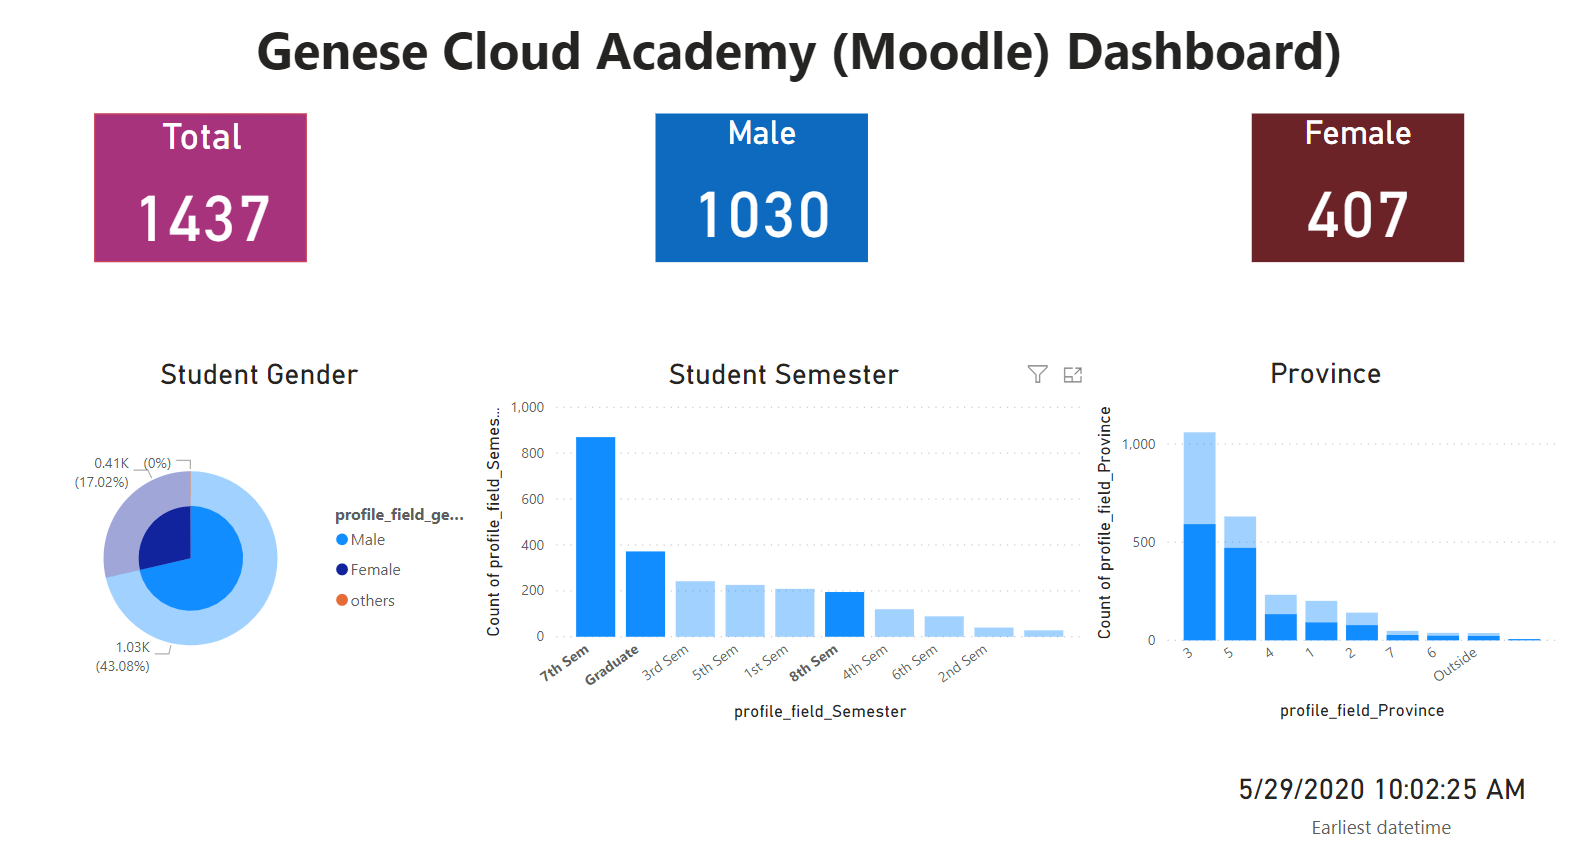

Layout of this report page (visuals, bound fields, positions):
{"tool":"powerbi","page":{"name":"Dashboard","canvas":[1280,720],"ordinal":0},"visuals":[{"type":"pieChart","title":"Student Gender","fields":{"Category":["user_latest.profile_field_gender1"],"Series":["user_latest.profile_field_gender1"],"Y":["CountNonNull(user_latest.profile_field_gender)"]},"box":[2.1,303.2,367.2,310.5],"z":0},{"type":"columnChart","title":"Student Semester","fields":{"Category":["user_latest.profile_field_Semester1"],"Y":["CountNonNull(user_latest.profile_field_Semester)1"]},"box":[369.4,303.2,513.4,310.5],"z":1000},{"type":"columnChart","title":"Province","fields":{"Category":["user_latest.profile_field_Province1"],"Y":["CountNonNull(user_latest.profile_field_Province)1"]},"box":[882.3,302.7,397.4,310.5],"z":2000},{"type":"card","title":"Total","fields":{"Values":["CountNonNull(user_latest.id)"]},"box":[47.1,98.8,178.8,124.4],"z":3000},{"type":"card","title":"Male","fields":{"Values":["CountNonNull(user_latest.profile_field_gender)"]},"box":[518.2,98.8,178.8,124.4],"z":4000},{"type":"card","title":"Female","fields":{"Values":["CountNonNull(user_latest.profile_field_gender)"]},"box":[1019.5,98.8,178.8,124.4],"z":5000},{"type":"textbox","box":[0,10.9,1279.3,72.5],"z":6000},{"type":"card","fields":{"Values":["Min(Kathmandu.datetime)"]},"box":[994.2,641.5,268.2,68.9],"z":7000}]}

Visuals, with their boxes on the page's 1280x720 design canvas (x1, y1, x2, y2). These are canvas units, not pixel positions in the 1592x847 screenshot, which may show the page scaled, cropped or inside an application window:
"Student Gender" pieChart: box=[2, 303, 369, 614]
"Student Semester" columnChart: box=[369, 303, 883, 614]
"Province" columnChart: box=[882, 303, 1280, 613]
"Total" card: box=[47, 99, 226, 223]
"Male" card: box=[518, 99, 697, 223]
"Female" card: box=[1020, 99, 1198, 223]
textbox: box=[0, 11, 1279, 83]
card - Min(Kathmandu.datetime): box=[994, 642, 1262, 710]
